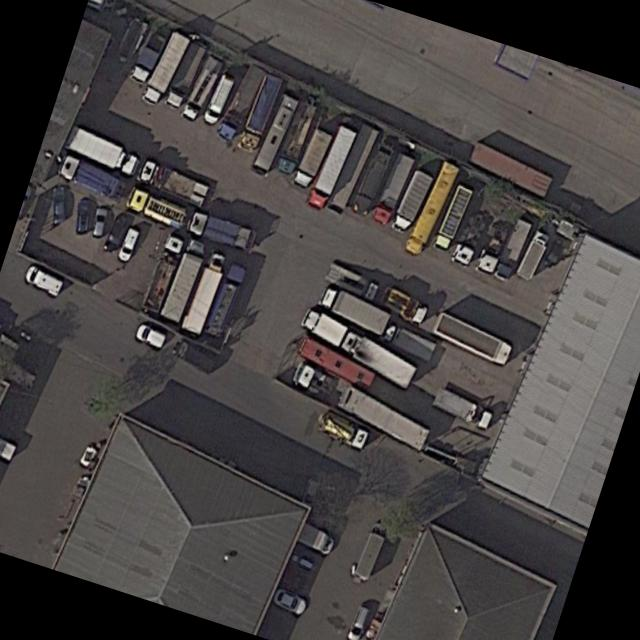large-vehicle: (400, 158, 461, 259), (428, 307, 514, 370), (293, 330, 376, 394), (337, 326, 418, 391), (303, 122, 357, 213), (179, 244, 228, 337), (248, 89, 299, 178), (61, 121, 140, 178), (158, 234, 208, 324), (213, 60, 267, 143), (138, 28, 190, 109), (316, 282, 391, 337), (134, 156, 210, 209), (234, 71, 282, 154), (55, 151, 129, 203), (139, 232, 185, 314), (202, 258, 248, 340), (368, 148, 415, 228), (348, 139, 395, 219), (176, 50, 225, 124), (160, 37, 208, 112), (273, 98, 317, 177), (123, 181, 191, 231), (185, 207, 260, 251), (387, 166, 434, 236), (430, 181, 473, 254), (429, 383, 494, 430), (289, 126, 333, 191), (491, 216, 532, 283), (379, 319, 438, 365), (313, 406, 370, 452), (323, 259, 380, 302), (376, 283, 431, 327), (125, 30, 167, 87), (352, 518, 389, 582), (513, 226, 552, 283), (299, 303, 348, 348), (199, 70, 236, 127), (294, 518, 337, 557)
small-vehicle: (170, 337, 214, 374), (20, 262, 64, 298), (269, 583, 310, 618), (99, 208, 129, 255), (130, 319, 168, 350), (343, 601, 372, 640), (113, 225, 141, 263), (88, 204, 109, 239), (50, 183, 66, 227), (73, 196, 91, 235), (542, 237, 563, 269), (0, 434, 19, 463)
